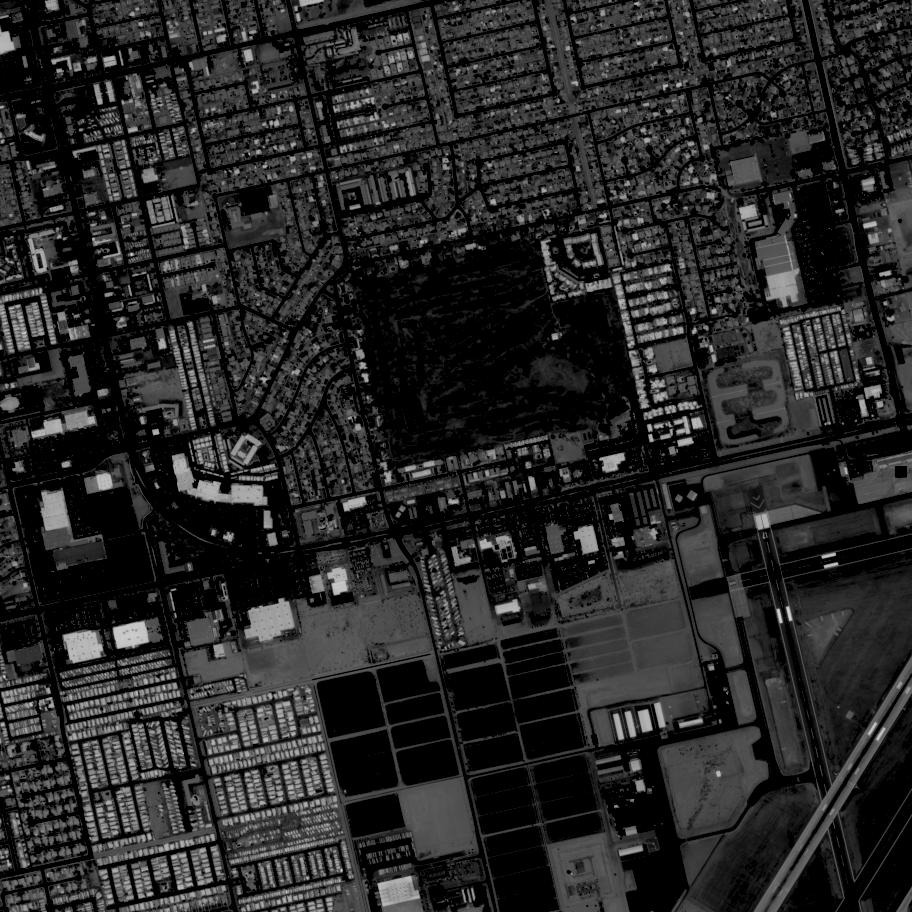plane: (896, 466, 908, 479), (710, 674, 717, 683), (723, 687, 729, 694), (644, 763, 650, 769), (724, 692, 730, 698), (648, 789, 652, 794), (652, 785, 656, 790), (645, 777, 649, 782), (638, 752, 643, 756), (711, 692, 715, 696), (726, 702, 730, 706), (612, 804, 616, 807), (726, 698, 729, 701), (631, 799, 634, 802), (615, 805, 618, 808), (636, 750, 638, 753), (626, 800, 630, 801), (629, 754, 632, 755), (634, 753, 637, 753), (631, 751, 634, 751)
